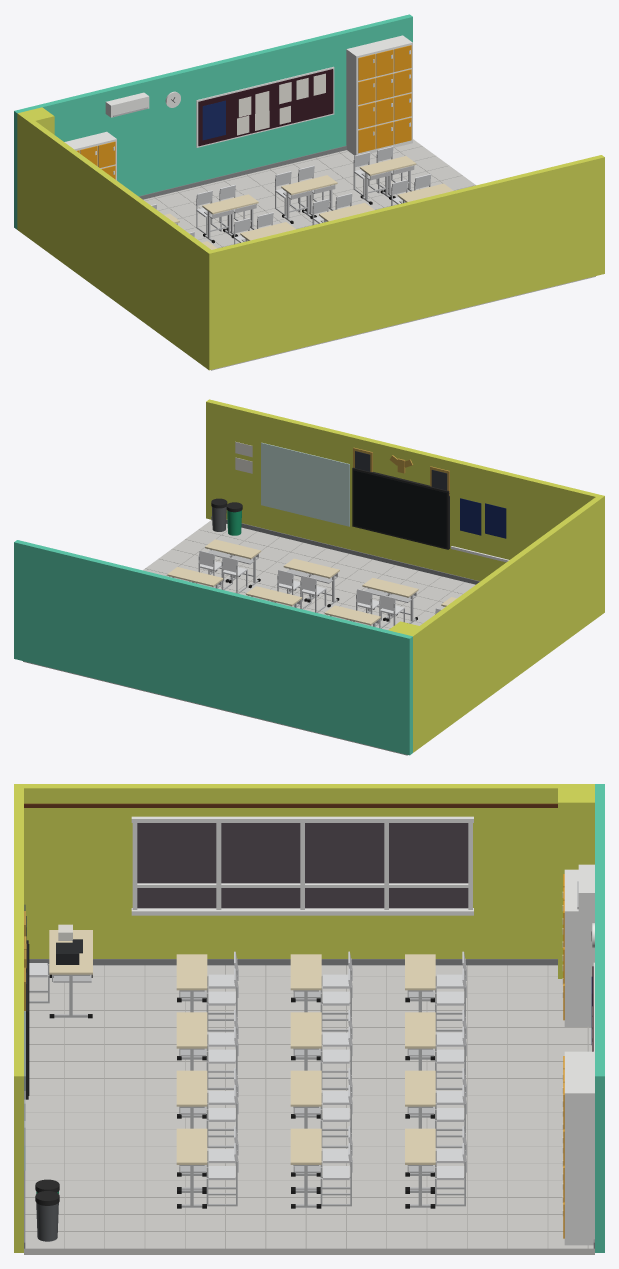
Rendered from denah-kelas.glb.
3 views of the same model, one above another, from view 1: azimuth 30°, elevation 25°; view 2: azimuth 150°, elevation 25°; view 3: azimuth 270°, elevation 25° (orthographic). The views are drawn at different scales.
Visible parts, largest first — view 1: dinding (×3), lantai, badan (×2), papan_mading, plint, bingkai_mading, poster_kharisma, ac; view 2: dinding (×3), lantai, papan_tulis_kaca, tv_layar, plint, tv_bingkai, poster_learning_instructions, poster_hak_kewajiban; view 3: lantai, dinding (×3), kaca, badan (×2), daun_meja (×13), pilar, ambang_bawah, list_atas_coklat, plint, ambang_atas, palang_bawah, ac (+2 smaller).
Boxes of the visible parts, bbox=[...] form: dinding (×3): bbox=[14, 14, 604, 370]; lantai: bbox=[143, 139, 595, 370]; badan (×2): bbox=[64, 35, 412, 180]; papan_mading: bbox=[198, 69, 333, 146]; plint: bbox=[139, 145, 346, 199]; bingkai_mading: bbox=[196, 66, 334, 147]; poster_kharisma: bbox=[202, 100, 225, 140]; ac: bbox=[105, 92, 149, 117]; dinding (×3): bbox=[14, 399, 604, 755]; lantai: bbox=[23, 520, 475, 755]; papan_tulis_kaca: bbox=[261, 442, 349, 526]; tv_layar: bbox=[353, 470, 446, 547]; plint: bbox=[211, 516, 479, 584]; tv_bingkai: bbox=[352, 467, 449, 549]; poster_learning_instructions: bbox=[460, 498, 481, 535]; poster_hak_kewajiban: bbox=[485, 503, 506, 538]; lantai: bbox=[24, 965, 594, 1254]; dinding (×3): bbox=[14, 784, 604, 1252]; kaca: bbox=[137, 823, 468, 908]; badan (×2): bbox=[564, 869, 594, 1245]; daun_meja (×13): bbox=[49, 930, 435, 1164]; pilar: bbox=[558, 788, 594, 978]; ambang_bawah: bbox=[131, 908, 473, 915]; list_atas_coklat: bbox=[24, 803, 557, 807]; plint: bbox=[29, 959, 557, 965]; ambang_atas: bbox=[131, 816, 473, 822]; palang_bawah: bbox=[137, 883, 468, 887]; ac: bbox=[578, 864, 594, 911].
Size of the model in its own units: 10.3 by 3 by 8.8.
